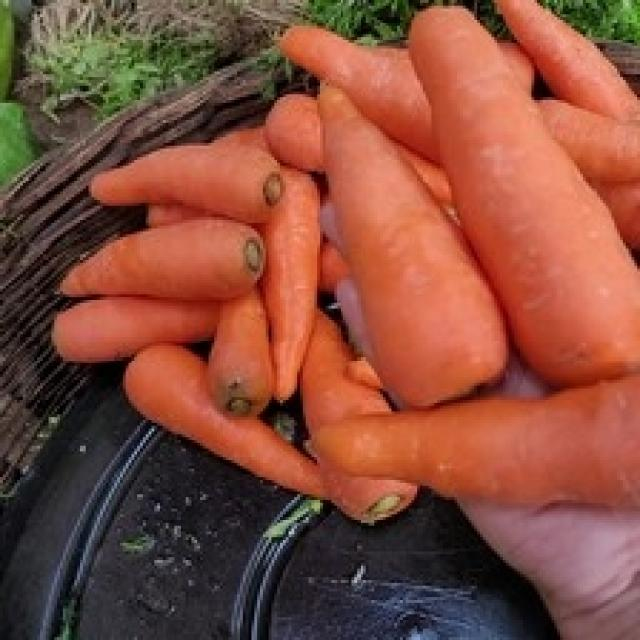carrot: (51, 0, 634, 517)
